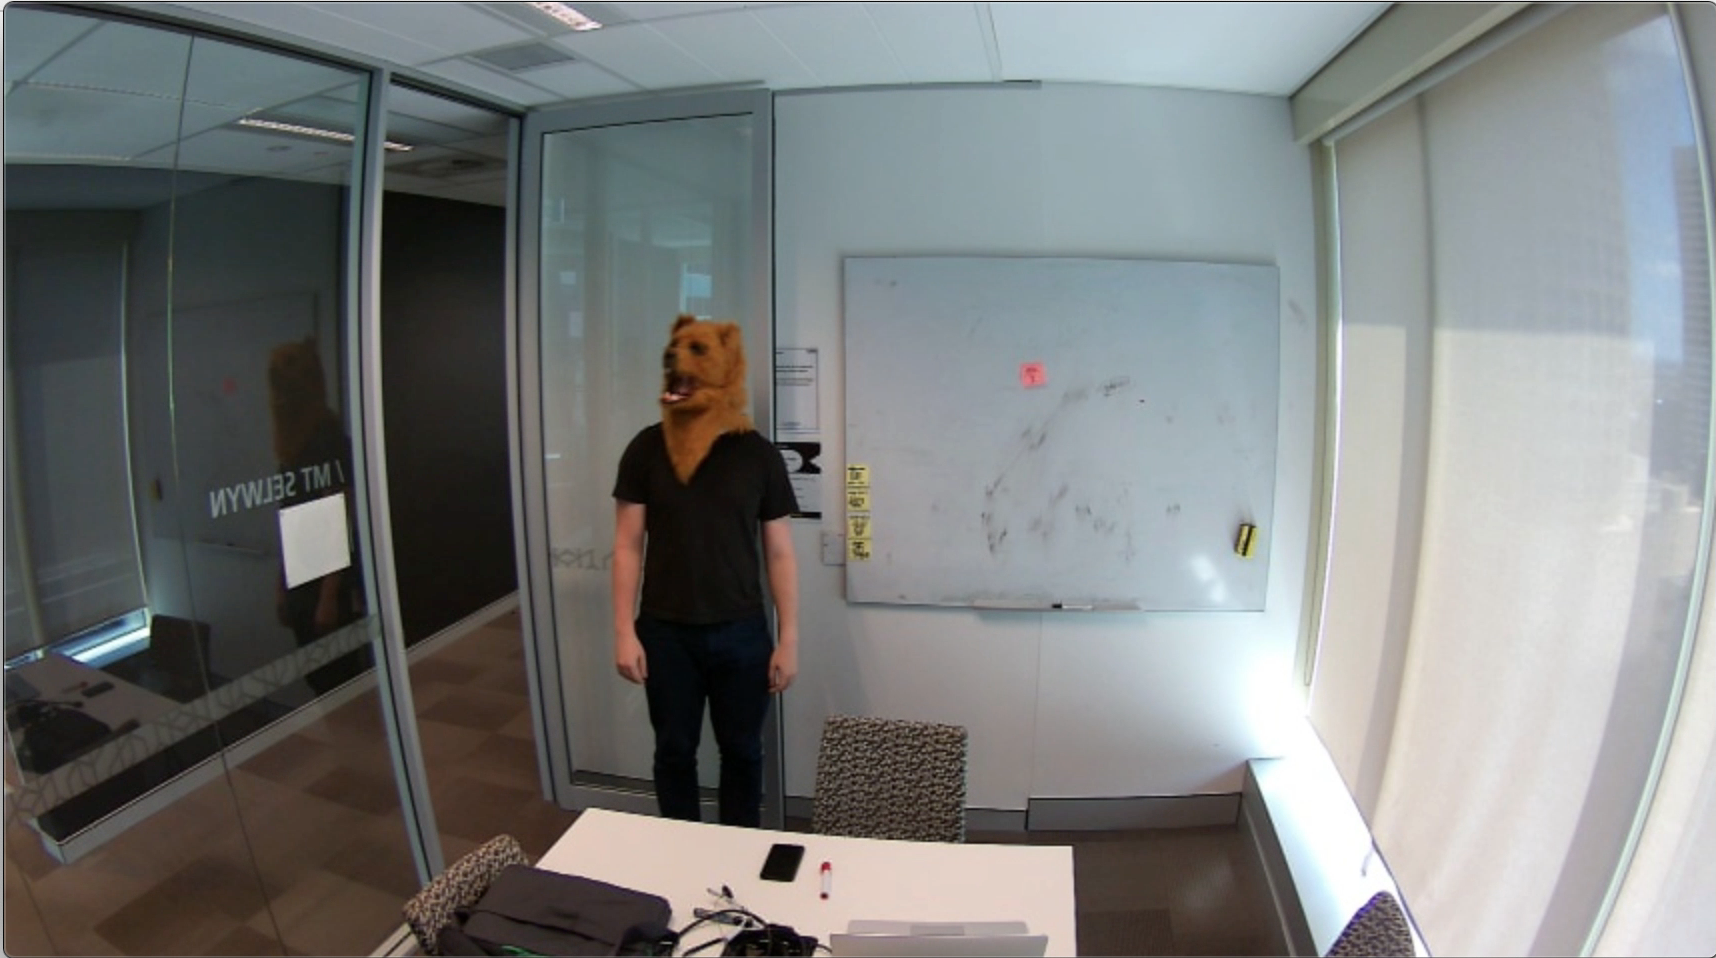Bear: (656, 310, 753, 430)
